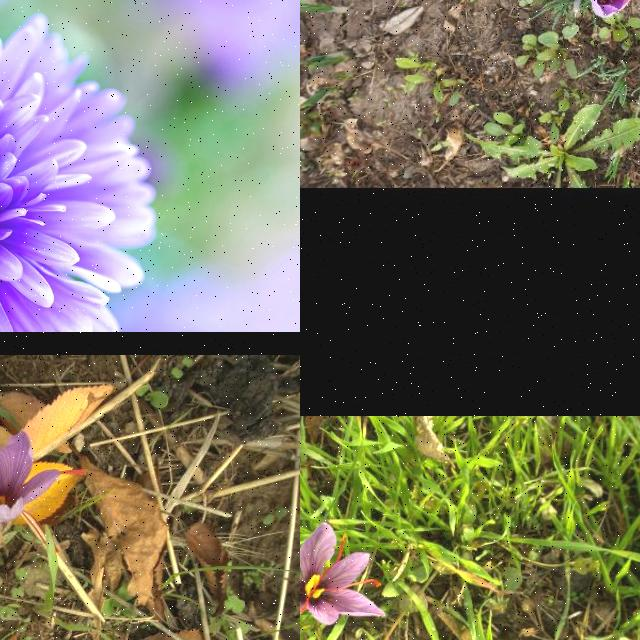flower: (300, 522, 386, 635), (0, 431, 82, 521), (590, 0, 634, 18)
